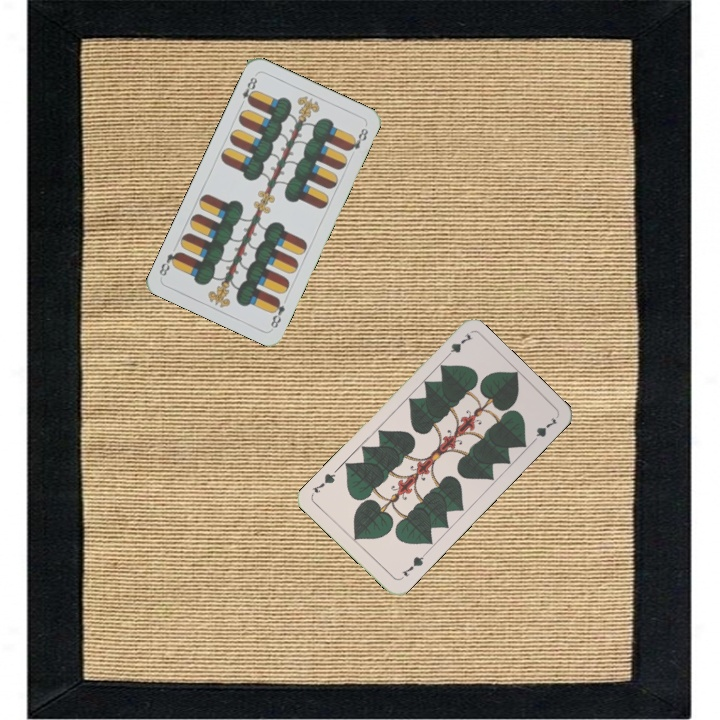E8: (236, 73, 260, 109), (266, 295, 288, 331)
G7: (440, 329, 475, 362), (396, 549, 428, 582)
